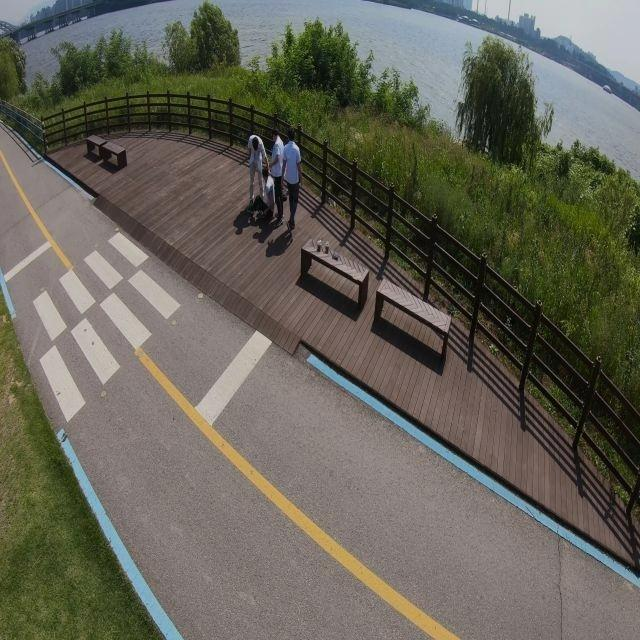fight: (245, 130, 273, 227)
non-fight: (282, 133, 302, 233)
